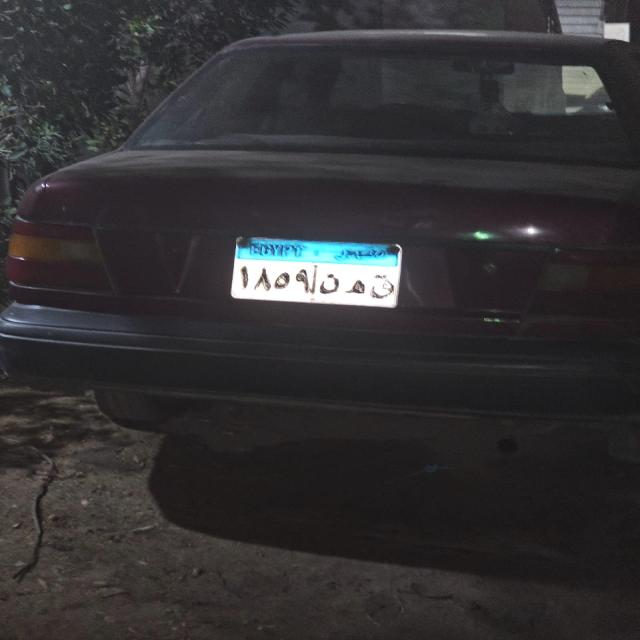car-plate: (234, 244, 394, 305)
